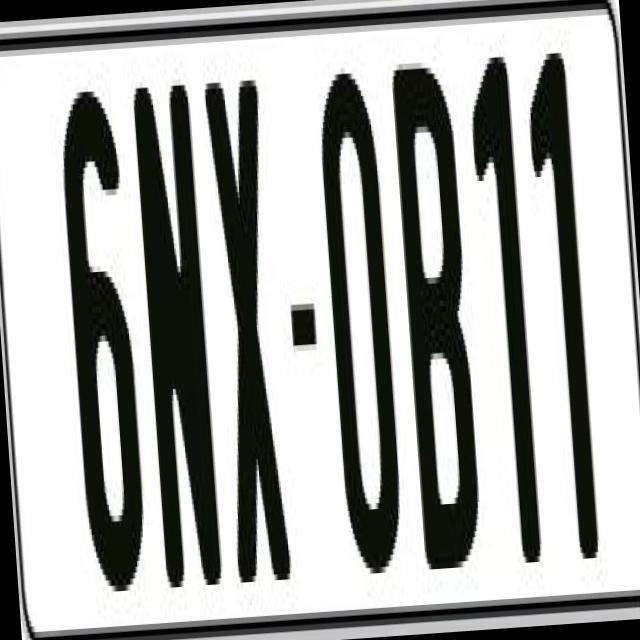0: (312, 65, 411, 592)
1: (522, 40, 600, 578), (467, 50, 544, 587)
6: (52, 77, 154, 616)
B: (388, 48, 490, 552)
N: (130, 72, 222, 576)
X: (198, 73, 296, 582)
